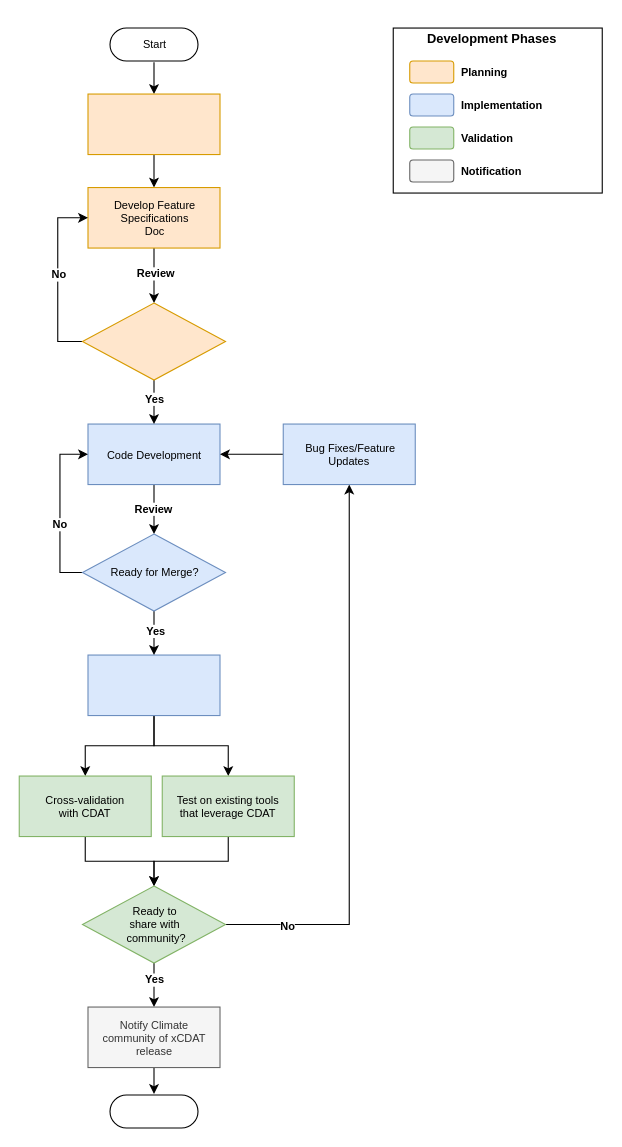
The diagram is 622 pixels wide and 1147 high, and some of its shapes have lost their labels. Here are the shapes that lost their labels. From the top down, the box of each, then its label:
(87, 93, 220, 155): Develop Product Requirements Document
(81, 302, 226, 380): Ready to Implement?
(87, 654, 220, 716): Merge PR and release new version
(109, 1094, 198, 1128): End
